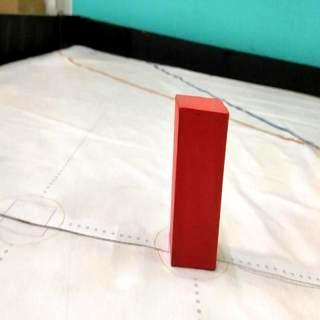redbox: (170, 95, 230, 272)
